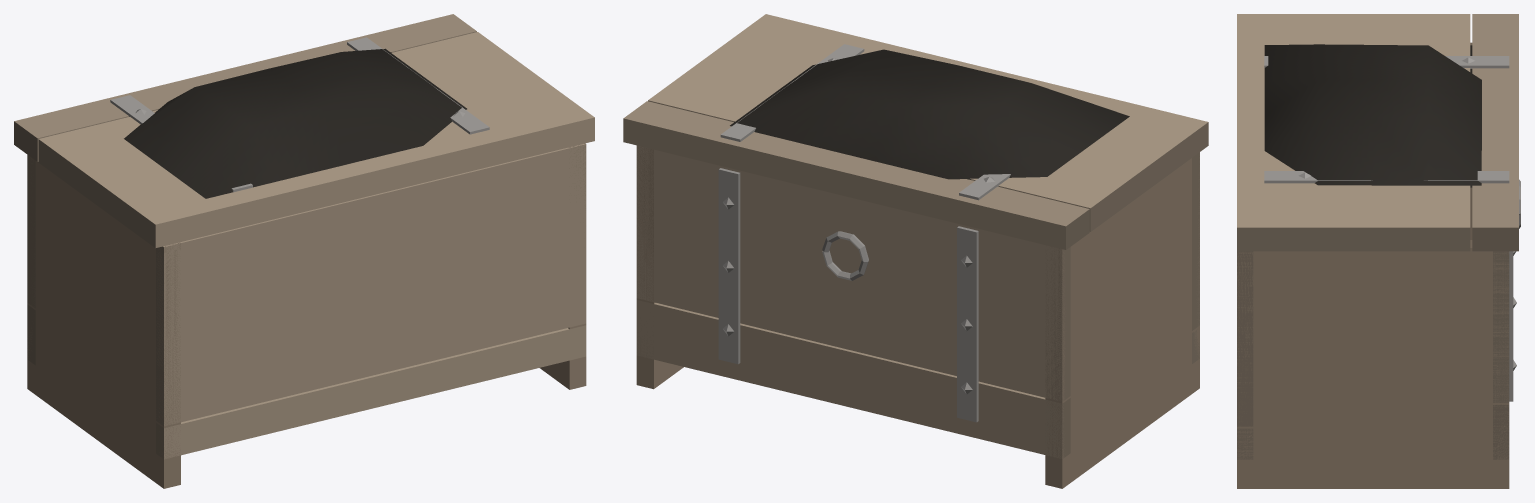
File: prop_inn_chest.glb
The picture shows the model from 3 angles, left to right: view 1: azimuth 30°, elevation 25°; view 2: azimuth 150°, elevation 25°; view 3: azimuth 270°, elevation 25°; orthographic projection.
Visible parts, largest first — view 1: InnChest, InnChestSoft; view 2: InnChest, InnChestSoft; view 3: InnChest, InnChestSoft.
Boxes of the visible parts, x1,y1,x2,y2 form: InnChest: (14, 14, 594, 488); InnChestSoft: (124, 48, 466, 198); InnChest: (623, 14, 1208, 488); InnChestSoft: (730, 49, 1129, 179); InnChest: (1237, 14, 1520, 488); InnChestSoft: (1264, 44, 1481, 187).
Size of the model in its own units: 0.78 by 0.5119 by 0.438.
